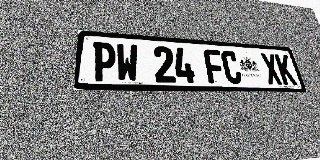2: (153, 46, 176, 83)
4: (173, 47, 196, 83)
C: (220, 50, 243, 84)
F: (203, 49, 226, 84)
K: (274, 54, 297, 85)
P: (92, 42, 115, 82)
W: (116, 43, 139, 82)
X: (260, 53, 283, 85)
